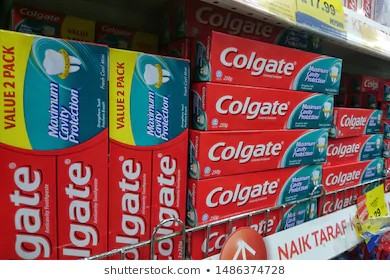colgate-family: (1, 31, 110, 257), (113, 50, 193, 260)
colgate-medium: (198, 31, 341, 95), (188, 165, 321, 225), (192, 128, 333, 182), (196, 81, 335, 131), (321, 161, 382, 193), (331, 106, 384, 140), (328, 135, 384, 166)
